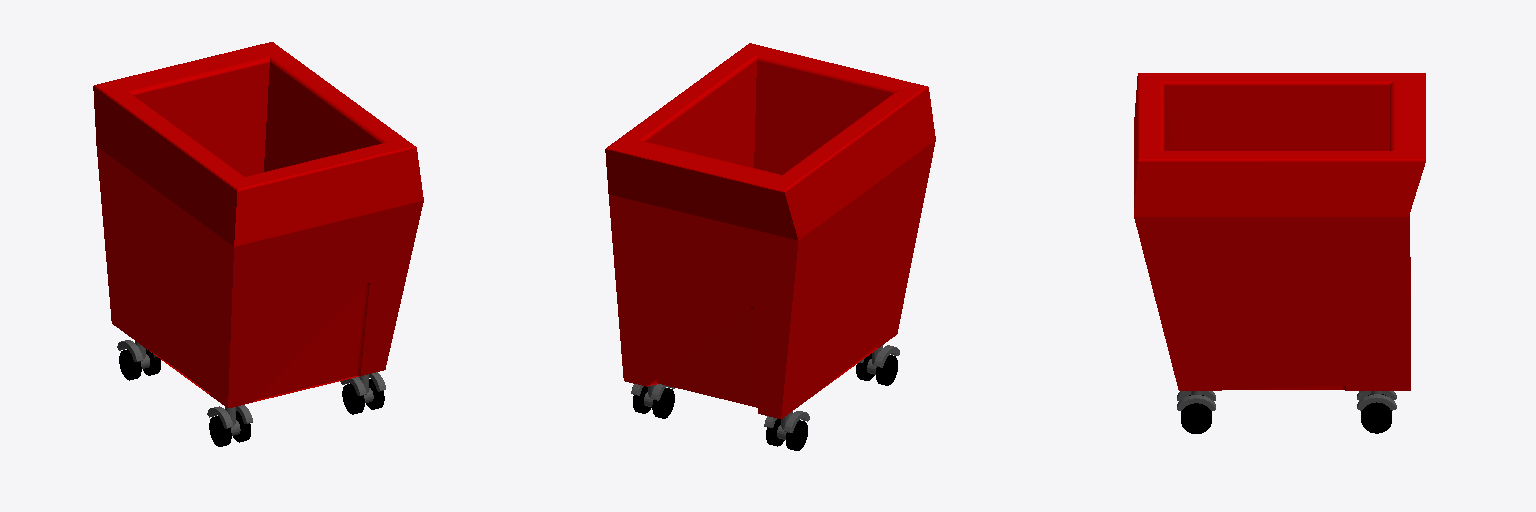
Rendered from mocio.obj.
3 renders of one model, left to right at view 1: azimuth 30°, elevation 25°; view 2: azimuth 150°, elevation 25°; view 3: azimuth 270°, elevation 25°, orthographic.
Visible parts, largest first — view 1: finaleSecchio, Ruote.004, Ruote.003, Ruote.002; view 2: finaleSecchio, Ruote.002, Ruote.004, Ruote.001; view 3: finaleSecchio, Ruote.003, Ruote.001.
Boxes of the visible parts, x1,y1,x2,y2 form: finaleSecchio: [93, 42, 423, 407]; Ruote.004: [207, 405, 252, 446]; Ruote.003: [340, 372, 385, 414]; Ruote.002: [117, 340, 160, 380]; finaleSecchio: [605, 43, 935, 418]; Ruote.002: [764, 411, 809, 450]; Ruote.004: [856, 345, 899, 385]; Ruote.001: [631, 384, 674, 418]; finaleSecchio: [1134, 73, 1425, 390]; Ruote.003: [1177, 391, 1215, 433]; Ruote.001: [1357, 391, 1396, 433].
Bounding box in the file's own units: 1.06 × 1.49 × 1.41.